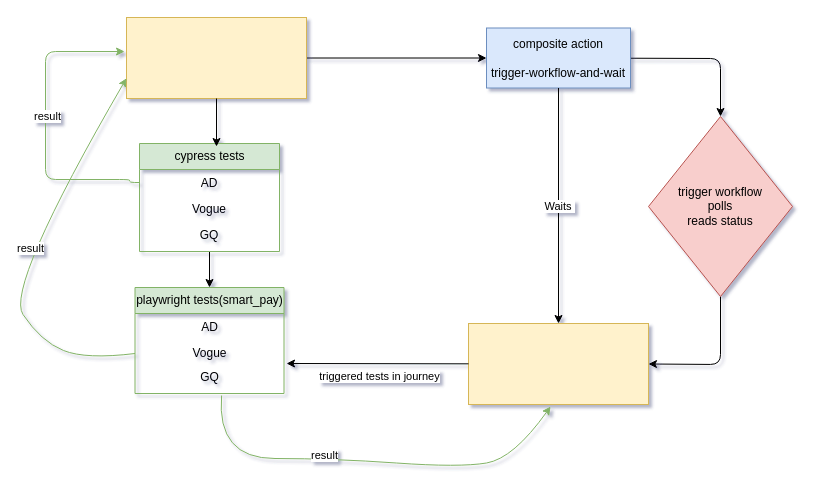
Image size: 816x489. Some labels were removed from this diagram. The centre of each missing label's shape, as x and y in pixels:
"Journey Purchase repo cypress-staging-regression.yml" belongs at (x=216, y=57).
"Playwright repo smartpay-trigger-action.yml" belongs at (x=558, y=363).
